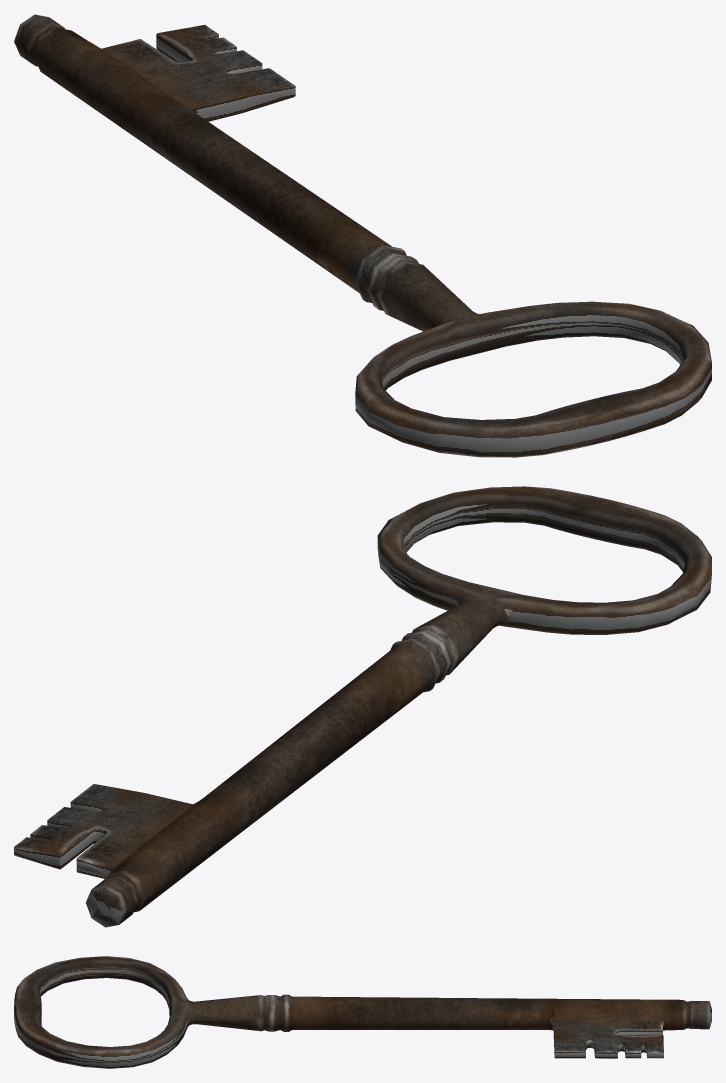
The model's file is LevelKey.glb.
The picture shows the model from 3 angles, top to bottom: view 1: azimuth 30°, elevation 25°; view 2: azimuth 150°, elevation 25°; view 3: azimuth 270°, elevation 25°; orthographic projection. The views are drawn at different scales.
Visible parts, largest first — view 1: Object_2; view 2: Object_2; view 3: Object_2.
Part boxes in pixels (x1=…): Object_2: x1=14, y1=14, x2=711, y2=457; Object_2: x1=14, y1=486, x2=711, y2=927; Object_2: x1=14, y1=956, x2=711, y2=1068.
Bounding box in the file's own units: 2.91 × 0.5043 × 8.61.
1 material, 1 textured.
